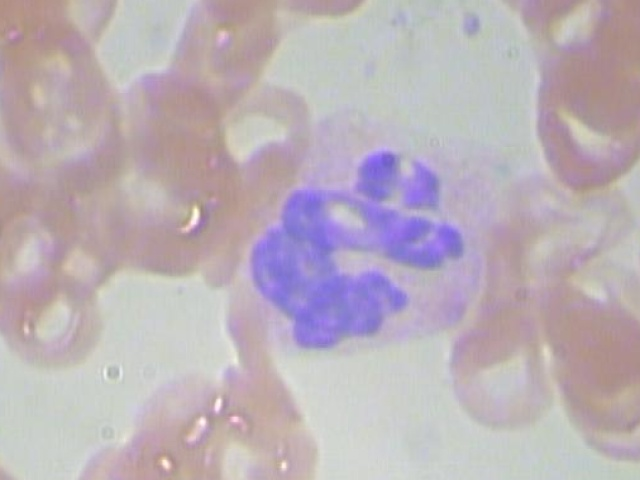Platelets: (444, 0, 491, 41)
RBC: (0, 19, 132, 181), (521, 40, 640, 199), (440, 309, 557, 437), (157, 0, 288, 108), (0, 256, 105, 370), (547, 311, 640, 433), (551, 354, 640, 467), (57, 433, 157, 480), (0, 416, 42, 480), (464, 0, 604, 15), (0, 81, 7, 195)
WBC: (240, 110, 514, 365)
